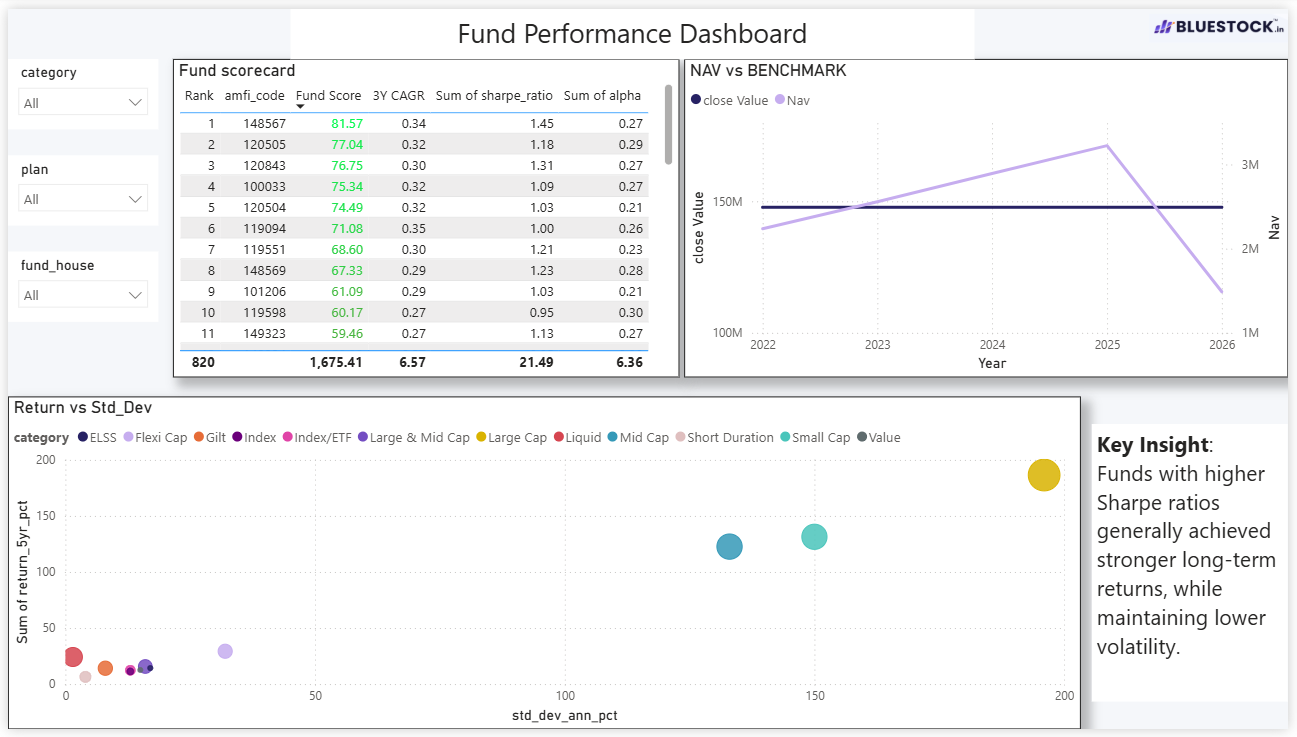

This screenshot's page, from the dashboard's own definition file:
{"tool":"powerbi","page":{"name":"Fund Performance","canvas":[1280,720],"ordinal":1},"visuals":[{"type":"slicer","fields":{"Values":["clean_fund_master.category"]},"box":[0,50,150,70],"z":0},{"type":"slicer","fields":{"Values":["clean_fund_master.fund_house"]},"box":[0,242.5,150,70],"z":1000},{"type":"slicer","fields":{"Values":["clean_fund_master.plan"]},"box":[0,146.2,150,70],"z":2000},{"type":"scatterChart","title":"Return vs Std_Dev","fields":{"X":["Sum(clean_performance.std_dev_ann_pct)"],"Y":["Sum(clean_performance.return_5yr_pct)"],"Size":["Sum(clean_performance.aum_crore)"],"Series":["clean_performance.category"]},"box":[0,387.5,1072.5,332.5],"z":3000},{"type":"tableEx","title":"Fund scorecard","fields":{"Values":["Sum(fund_scorecard.final_rank)","fund_scorecard.amfi_code","Sum(fund_scorecard.fund_score)","Sum(fund_scorecard.cagr_3y)","Sum(fund_scorecard.sharpe_ratio)","Sum(fund_scorecard.alpha)"]},"box":[165,50,506.2,318.8],"z":4000},{"type":"lineChart","title":"NAV vs BENCHMARK","fields":{"Category":["clean_nav.date.Variation.Date Hierarchy.Year","clean_nav.date.Variation.Date Hierarchy.Quarter","clean_nav.date.Variation.Date Hierarchy.Month","clean_nav.date.Variation.Date Hierarchy.Day"],"Y":["Sum(clean_benchmark_indices.close_value)"],"Y2":["Sum(clean_nav.nav)"]},"box":[676.2,50,603.8,318.8],"z":5000},{"type":"textbox","box":[282.5,0,683.8,50],"z":6000},{"type":"textbox","box":[1083.8,415,196.2,277.5],"z":7000},{"type":"image","box":[1141.1,0,138.9,38.9],"z":8000}]}

Visuals, with their boxes in screenshot pixels (x1, y1, x2, y2), scaled from the page's 1280x720 canvas onto the 1297x737 screenshot:
slicer - clean_fund_master.category: 0,51,152,123
slicer - clean_fund_master.fund_house: 0,248,152,320
slicer - clean_fund_master.plan: 0,150,152,221
"Return vs Std_Dev" scatterChart: 0,397,1087,736
"Fund scorecard" tableEx: 167,51,680,378
"NAV vs BENCHMARK" lineChart: 685,51,1296,378
textbox: 286,0,979,51
textbox: 1098,425,1296,709
image: 1156,0,1296,40
